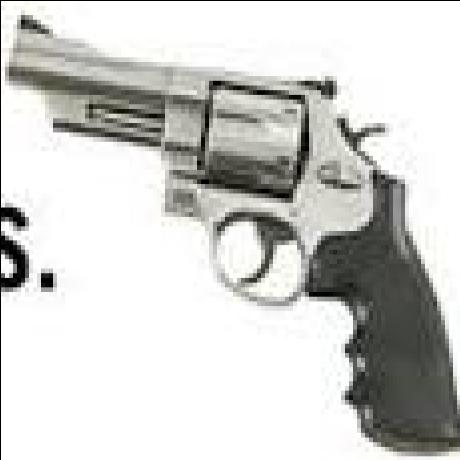weapon: (14, 18, 460, 452)
